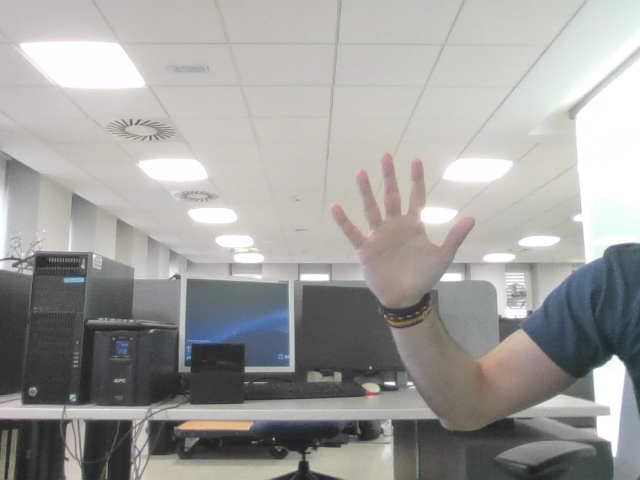Mano Abierta: (342, 166, 462, 274)
